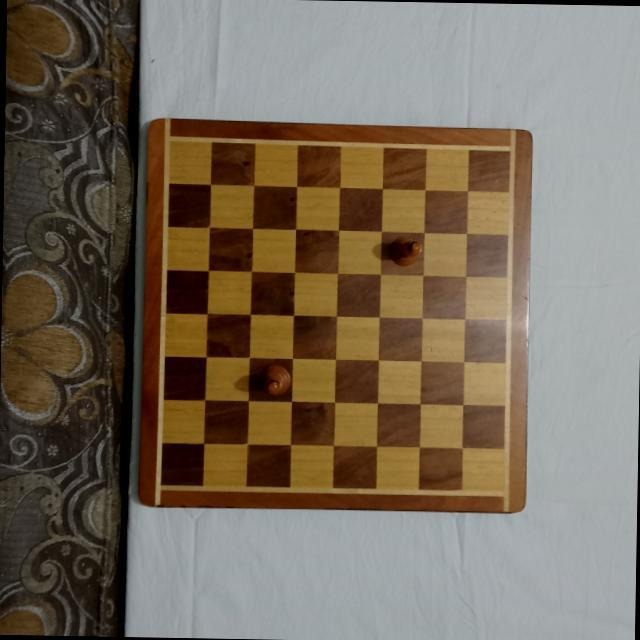white-bishop: (256, 361, 291, 396), (387, 235, 422, 267)
